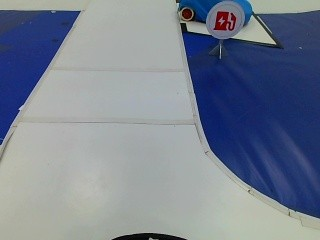battery: (207, 4, 240, 38)
